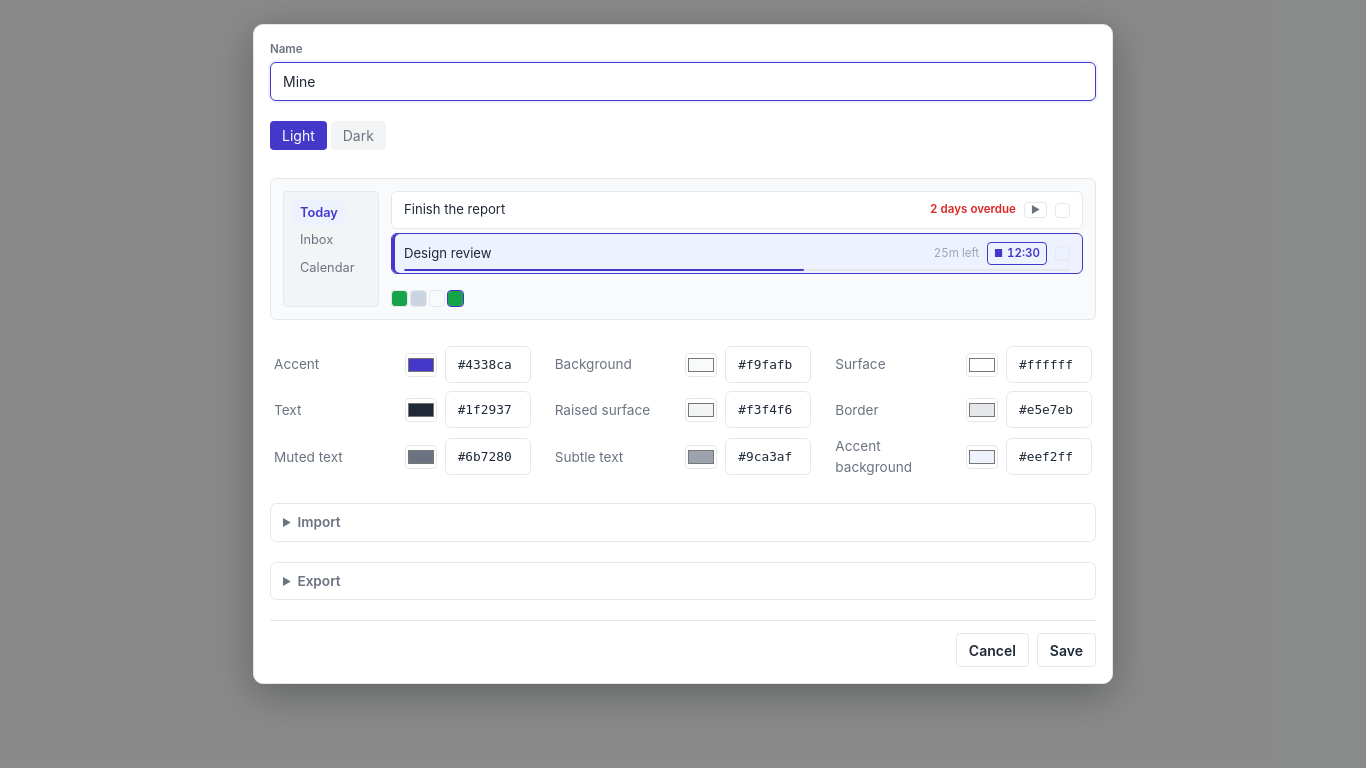
Test: ThemeEditorModal › blocks saving when a hex value is invalid
Replace the text in the field named "Accent hex" with "nope": (488, 365) [445, 346, 531, 383]
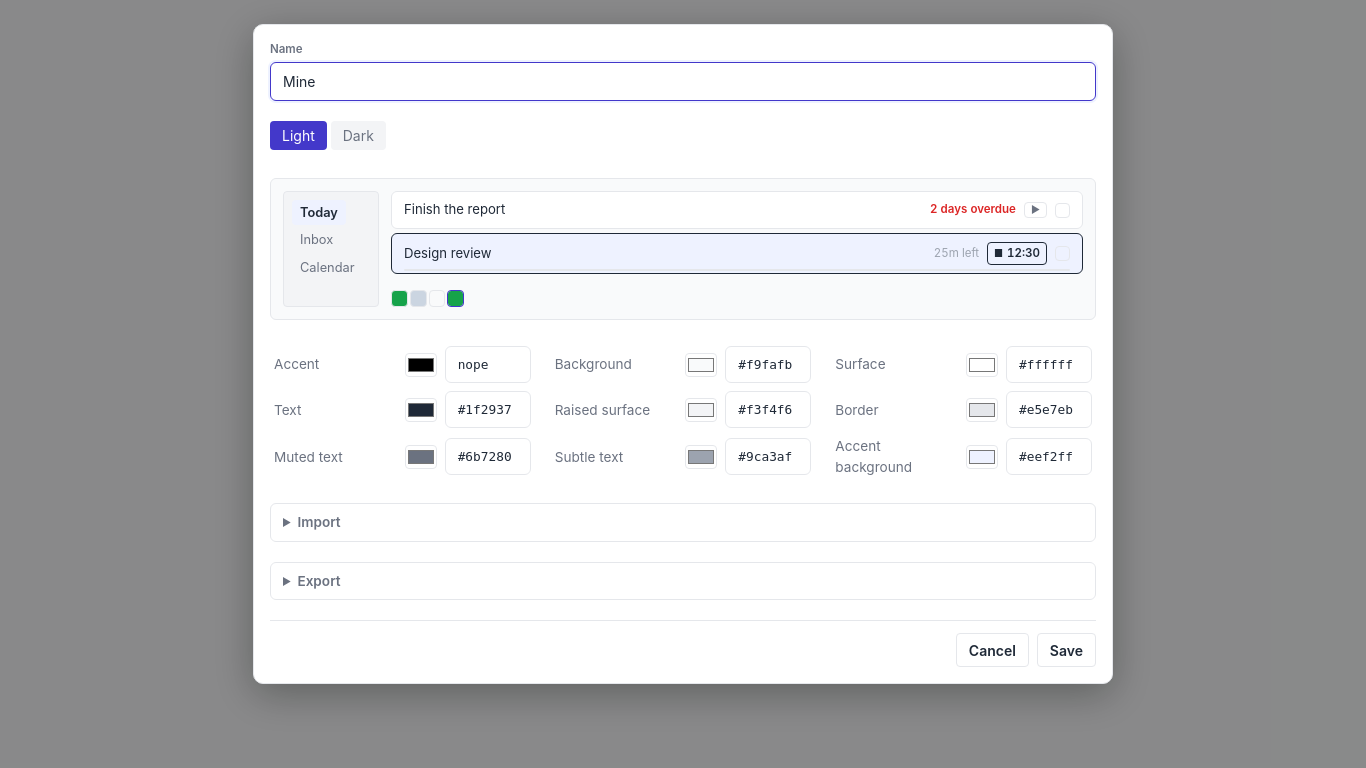
Click the button "Save": (1066, 650) [1037, 633, 1096, 668]
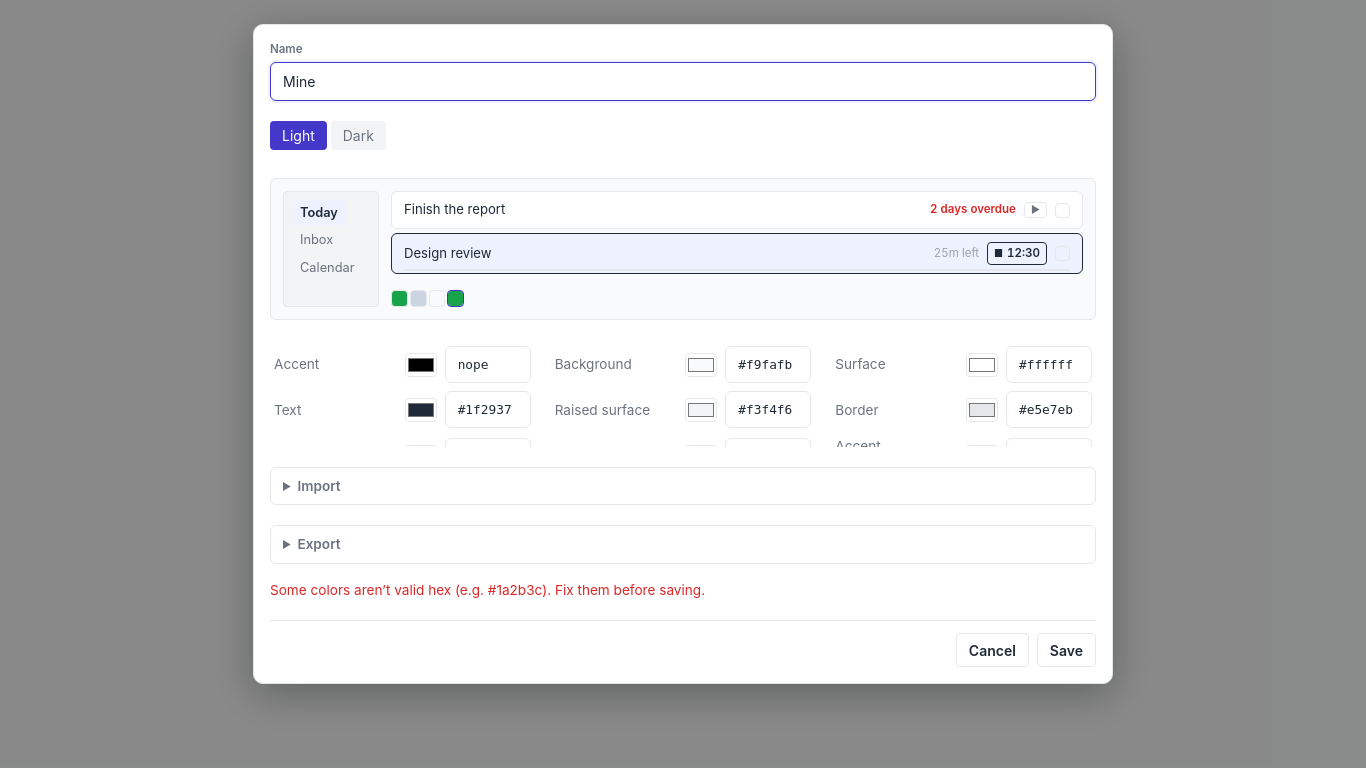
Expected: the text "valid hex" is shown, [270, 582, 705, 598]
